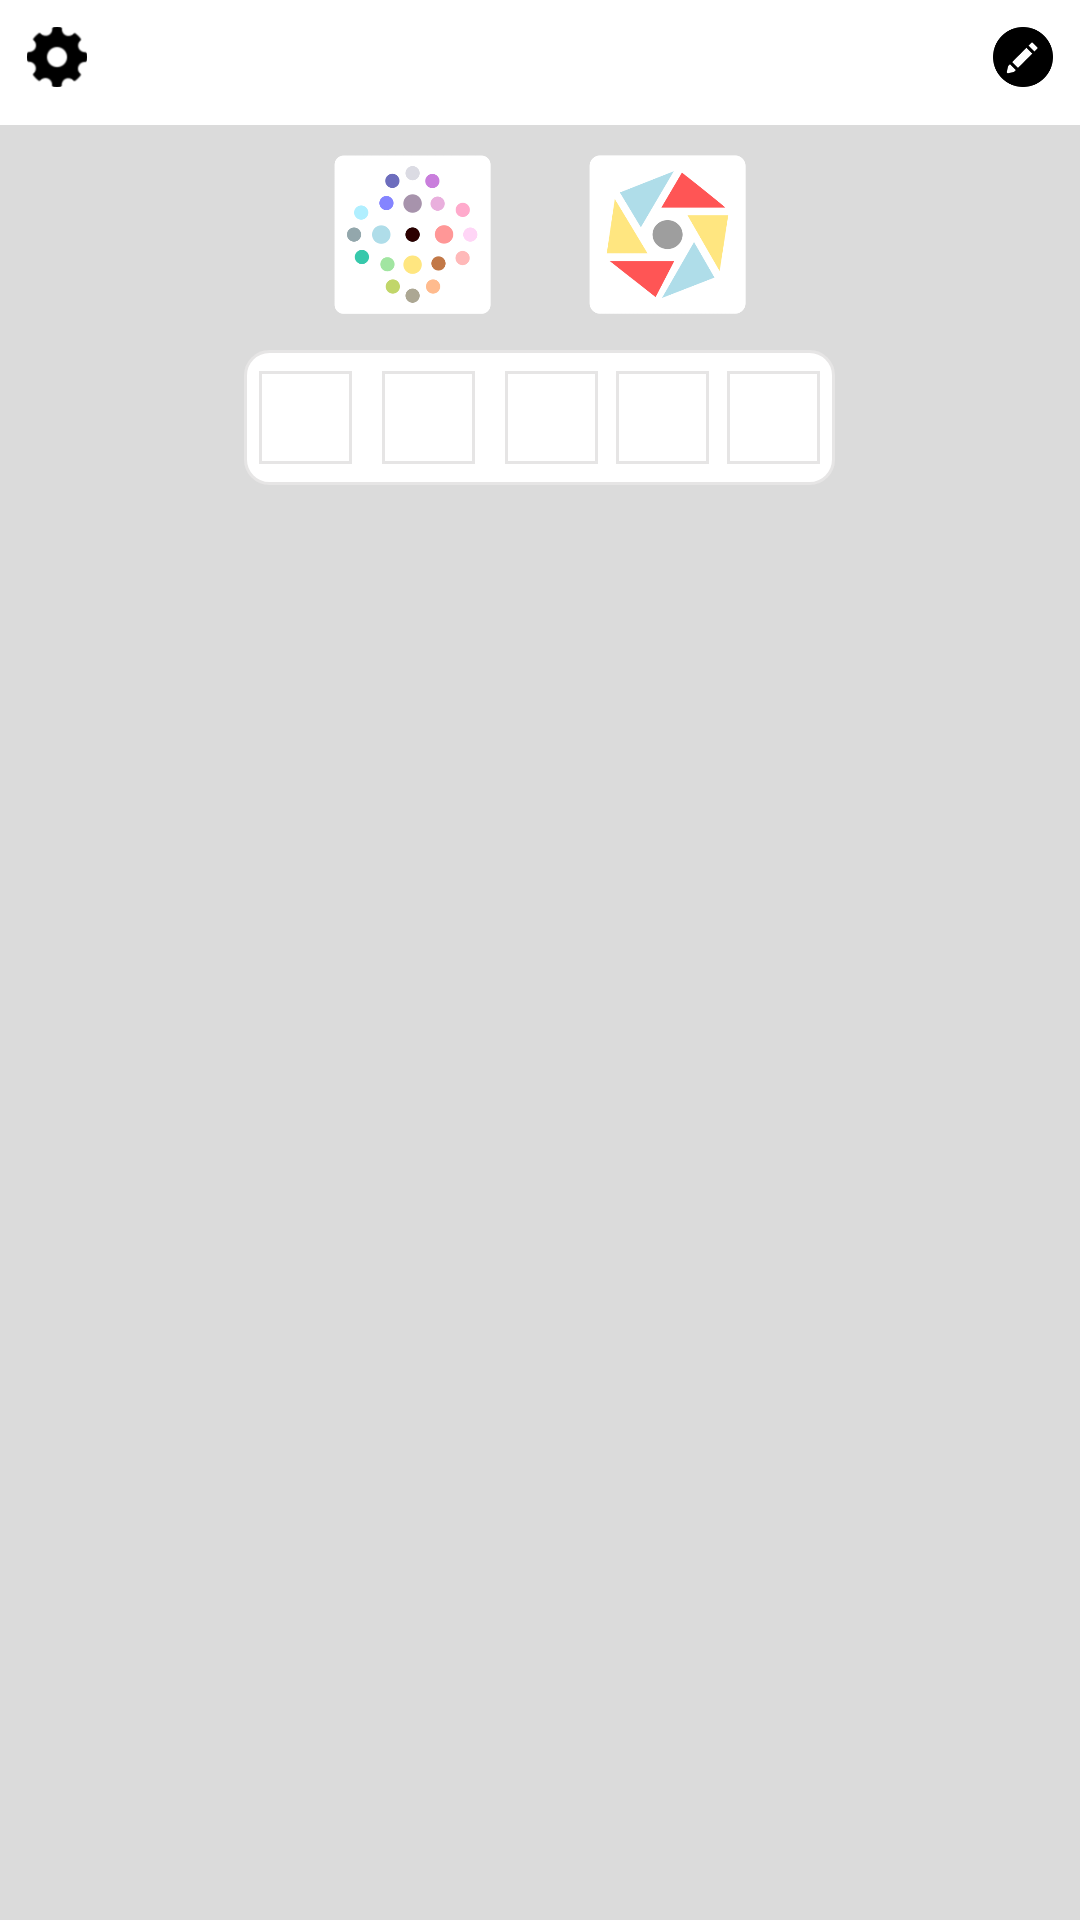

Where to tap for icons on this 1080 × 1920 app screen, as [x,y]:
captureicontwo: [668,235]
flowericon two: [412,235]
pencil: [1023,57]
settings: [57,57]
